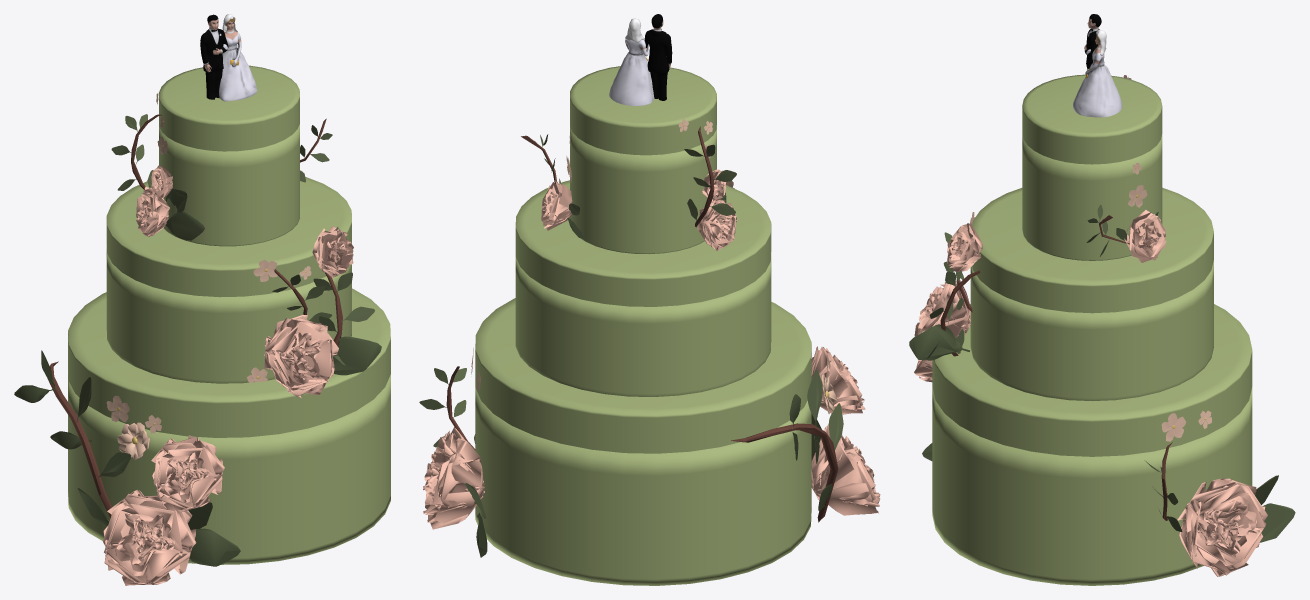
File: 3-tier-pistage-roses-bridegroom.glb
The picture shows the model from 3 angles, left to right: view 1: azimuth 30°, elevation 25°; view 2: azimuth 150°, elevation 25°; view 3: azimuth 270°, elevation 25°; orthographic projection. The views are drawn at different scales.
Parts seen in each view (by area): view 1: Cylinder.022, Cylinder.014, Cylinder.021, grid.042, grid.044, grid.040, Plane.093, 13501_Cake_Topper_Bride_Groom_v1_L1.002, grid.043, Plane.087, Plane.091, Plane.095 (+7 smaller); view 2: Cylinder.022, Cylinder.014, Cylinder.021, grid.029, 13501_Cake_Topper_Bride_Groom_v1_L1.002, grid.042, Plane.093, grid.040, grid.045, Plane.092, grid.047, Plane.084; view 3: Cylinder.022, Cylinder.014, Cylinder.021, grid.029, 13501_Cake_Topper_Bride_Groom_v1_L1.002, grid.044, grid.047, Plane.087, grid.043, Plane.095, Plane.082, Plane.084 (+1 smaller).
Part boxes in pixels (<box>): Cylinder.022: <box>68,288,390,564</box>; Cylinder.014: <box>106,177,351,383</box>; Cylinder.021: <box>159,65,299,246</box>; grid.042: <box>103,489,196,585</box>; grid.044: <box>264,314,338,398</box>; grid.040: <box>151,435,224,512</box>; Plane.093: <box>14,350,131,526</box>; 13501_Cake_Topper_Bride_Groom_v1_L1.002: <box>200,14,257,101</box>; grid.043: <box>312,226,353,277</box>; Plane.087: <box>333,336,381,375</box>; Plane.091: <box>189,528,240,566</box>; Plane.095: <box>313,272,374,365</box>; Cylinder.022: <box>475,298,811,585</box>; Cylinder.014: <box>515,180,771,396</box>; Cylinder.021: <box>570,66,716,254</box>; grid.029: <box>423,427,484,529</box>; 13501_Cake_Topper_Bride_Groom_v1_L1.002: <box>609,14,672,106</box>; grid.042: <box>811,423,880,515</box>; Plane.093: <box>731,369,843,522</box>; grid.040: <box>811,346,865,414</box>; grid.045: <box>697,200,737,250</box>; Plane.092: <box>684,126,736,227</box>; grid.047: <box>541,180,572,230</box>; Plane.084: <box>419,366,475,450</box>; Cylinder.022: <box>932,304,1252,585</box>; Cylinder.014: <box>970,187,1213,401</box>; Cylinder.021: <box>1022,74,1162,260</box>; grid.029: <box>1177,478,1267,576</box>; 13501_Cake_Topper_Bride_Groom_v1_L1.002: <box>1073,14,1122,117</box>; grid.044: <box>914,279,970,337</box>; grid.047: <box>1124,210,1166,262</box>; Plane.087: <box>909,324,969,360</box>; grid.043: <box>947,223,982,271</box>; Plane.095: <box>927,270,980,358</box>; Plane.082: <box>1259,503,1295,542</box>; Plane.084: <box>1144,442,1182,531</box>.
Size of the model in its own units: 5.28 by 6.96 by 4.9.
7 materials, 1 textured.
